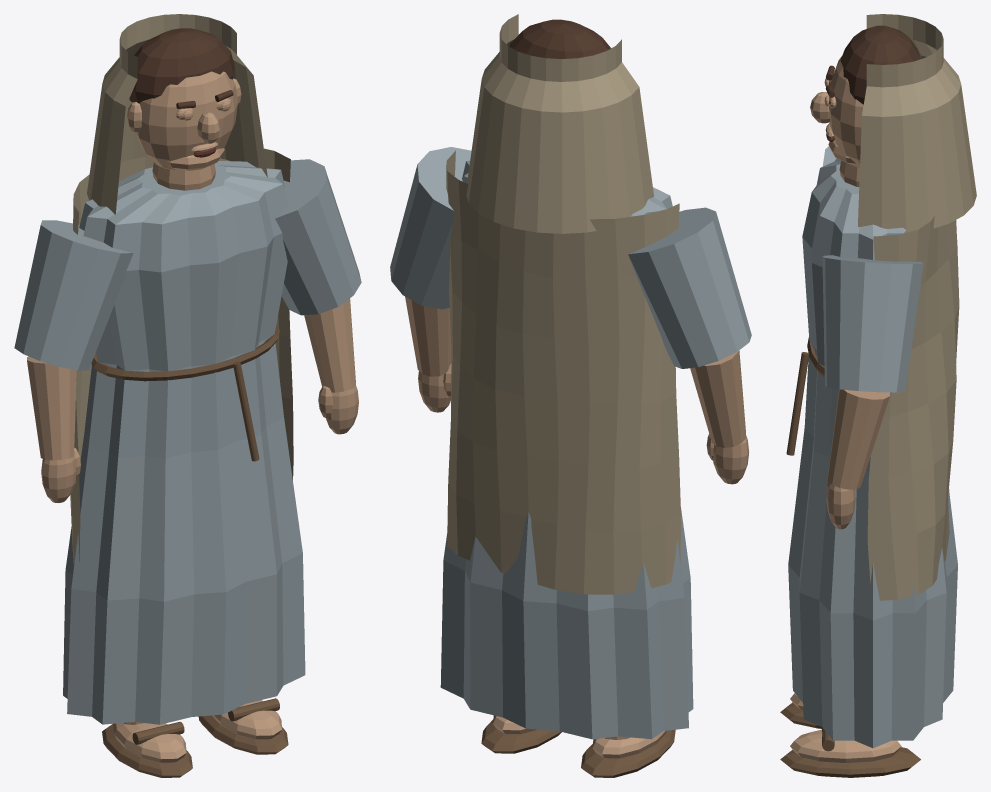
Rendered from listener-blue.glb.
3 renders of one model, left to right at view 1: azimuth 30°, elevation 25°; view 2: azimuth 150°, elevation 25°; view 3: azimuth 270°, elevation 25°, orthographic. The views are drawn at different scales.
Parts seen in each view (by area): view 1: listener-blue_torso_mesh, listener-blue_head_mesh, listener-blue_arm_left_mesh, listener-blue_arm_right_mesh, listener-blue_forearm_left_mesh, listener-blue_forearm_right_mesh, listener-blue_foot_left_mesh, listener-blue_foot_right_mesh, listener-blue_jaw_mesh; view 2: listener-blue_torso_mesh, listener-blue_head_mesh, listener-blue_arm_left_mesh, listener-blue_arm_right_mesh, listener-blue_forearm_left_mesh, listener-blue_forearm_right_mesh, listener-blue_foot_left_mesh, listener-blue_foot_right_mesh; view 3: listener-blue_torso_mesh, listener-blue_head_mesh, listener-blue_arm_right_mesh, listener-blue_forearm_right_mesh, listener-blue_foot_right_mesh, listener-blue_foot_left_mesh.
Boxes of the visible parts, <box> form: listener-blue_torso_mesh: <box>63,148,305,724</box>; listener-blue_head_mesh: <box>87,14,267,214</box>; listener-blue_arm_left_mesh: <box>14,220,133,370</box>; listener-blue_arm_right_mesh: <box>275,159,361,315</box>; listener-blue_forearm_left_mesh: <box>27,356,80,502</box>; listener-blue_forearm_right_mesh: <box>304,298,358,434</box>; listener-blue_foot_left_mesh: <box>102,721,192,777</box>; listener-blue_foot_right_mesh: <box>198,698,288,754</box>; listener-blue_jaw_mesh: <box>165,148,224,170</box>; listener-blue_torso_mesh: <box>440,150,693,739</box>; listener-blue_head_mesh: <box>466,14,653,233</box>; listener-blue_arm_left_mesh: <box>628,207,751,368</box>; listener-blue_arm_right_mesh: <box>390,147,471,309</box>; listener-blue_forearm_left_mesh: <box>690,350,749,484</box>; listener-blue_forearm_right_mesh: <box>405,296,451,412</box>; listener-blue_foot_left_mesh: <box>581,729,675,777</box>; listener-blue_foot_right_mesh: <box>481,715,561,753</box>; listener-blue_torso_mesh: <box>786,158,959,748</box>; listener-blue_head_mesh: <box>810,14,976,232</box>; listener-blue_arm_right_mesh: <box>822,255,923,392</box>; listener-blue_forearm_right_mesh: <box>826,389,889,529</box>; listener-blue_foot_right_mesh: <box>780,727,920,777</box>; listener-blue_foot_left_mesh: <box>780,693,821,728</box>.
Bounding box in the file's own units: 0.8788 × 1.76 × 0.44.
